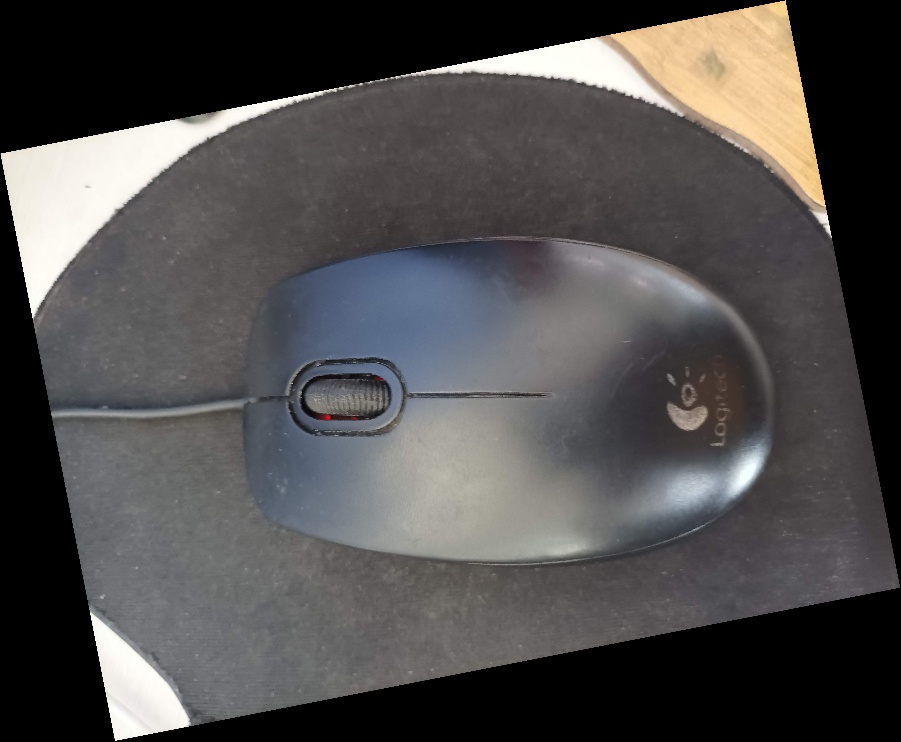mouse: (235, 227, 782, 570)
